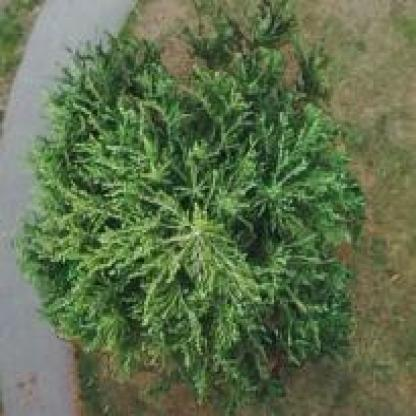Coniferous Tree: (15, 13, 362, 399)
